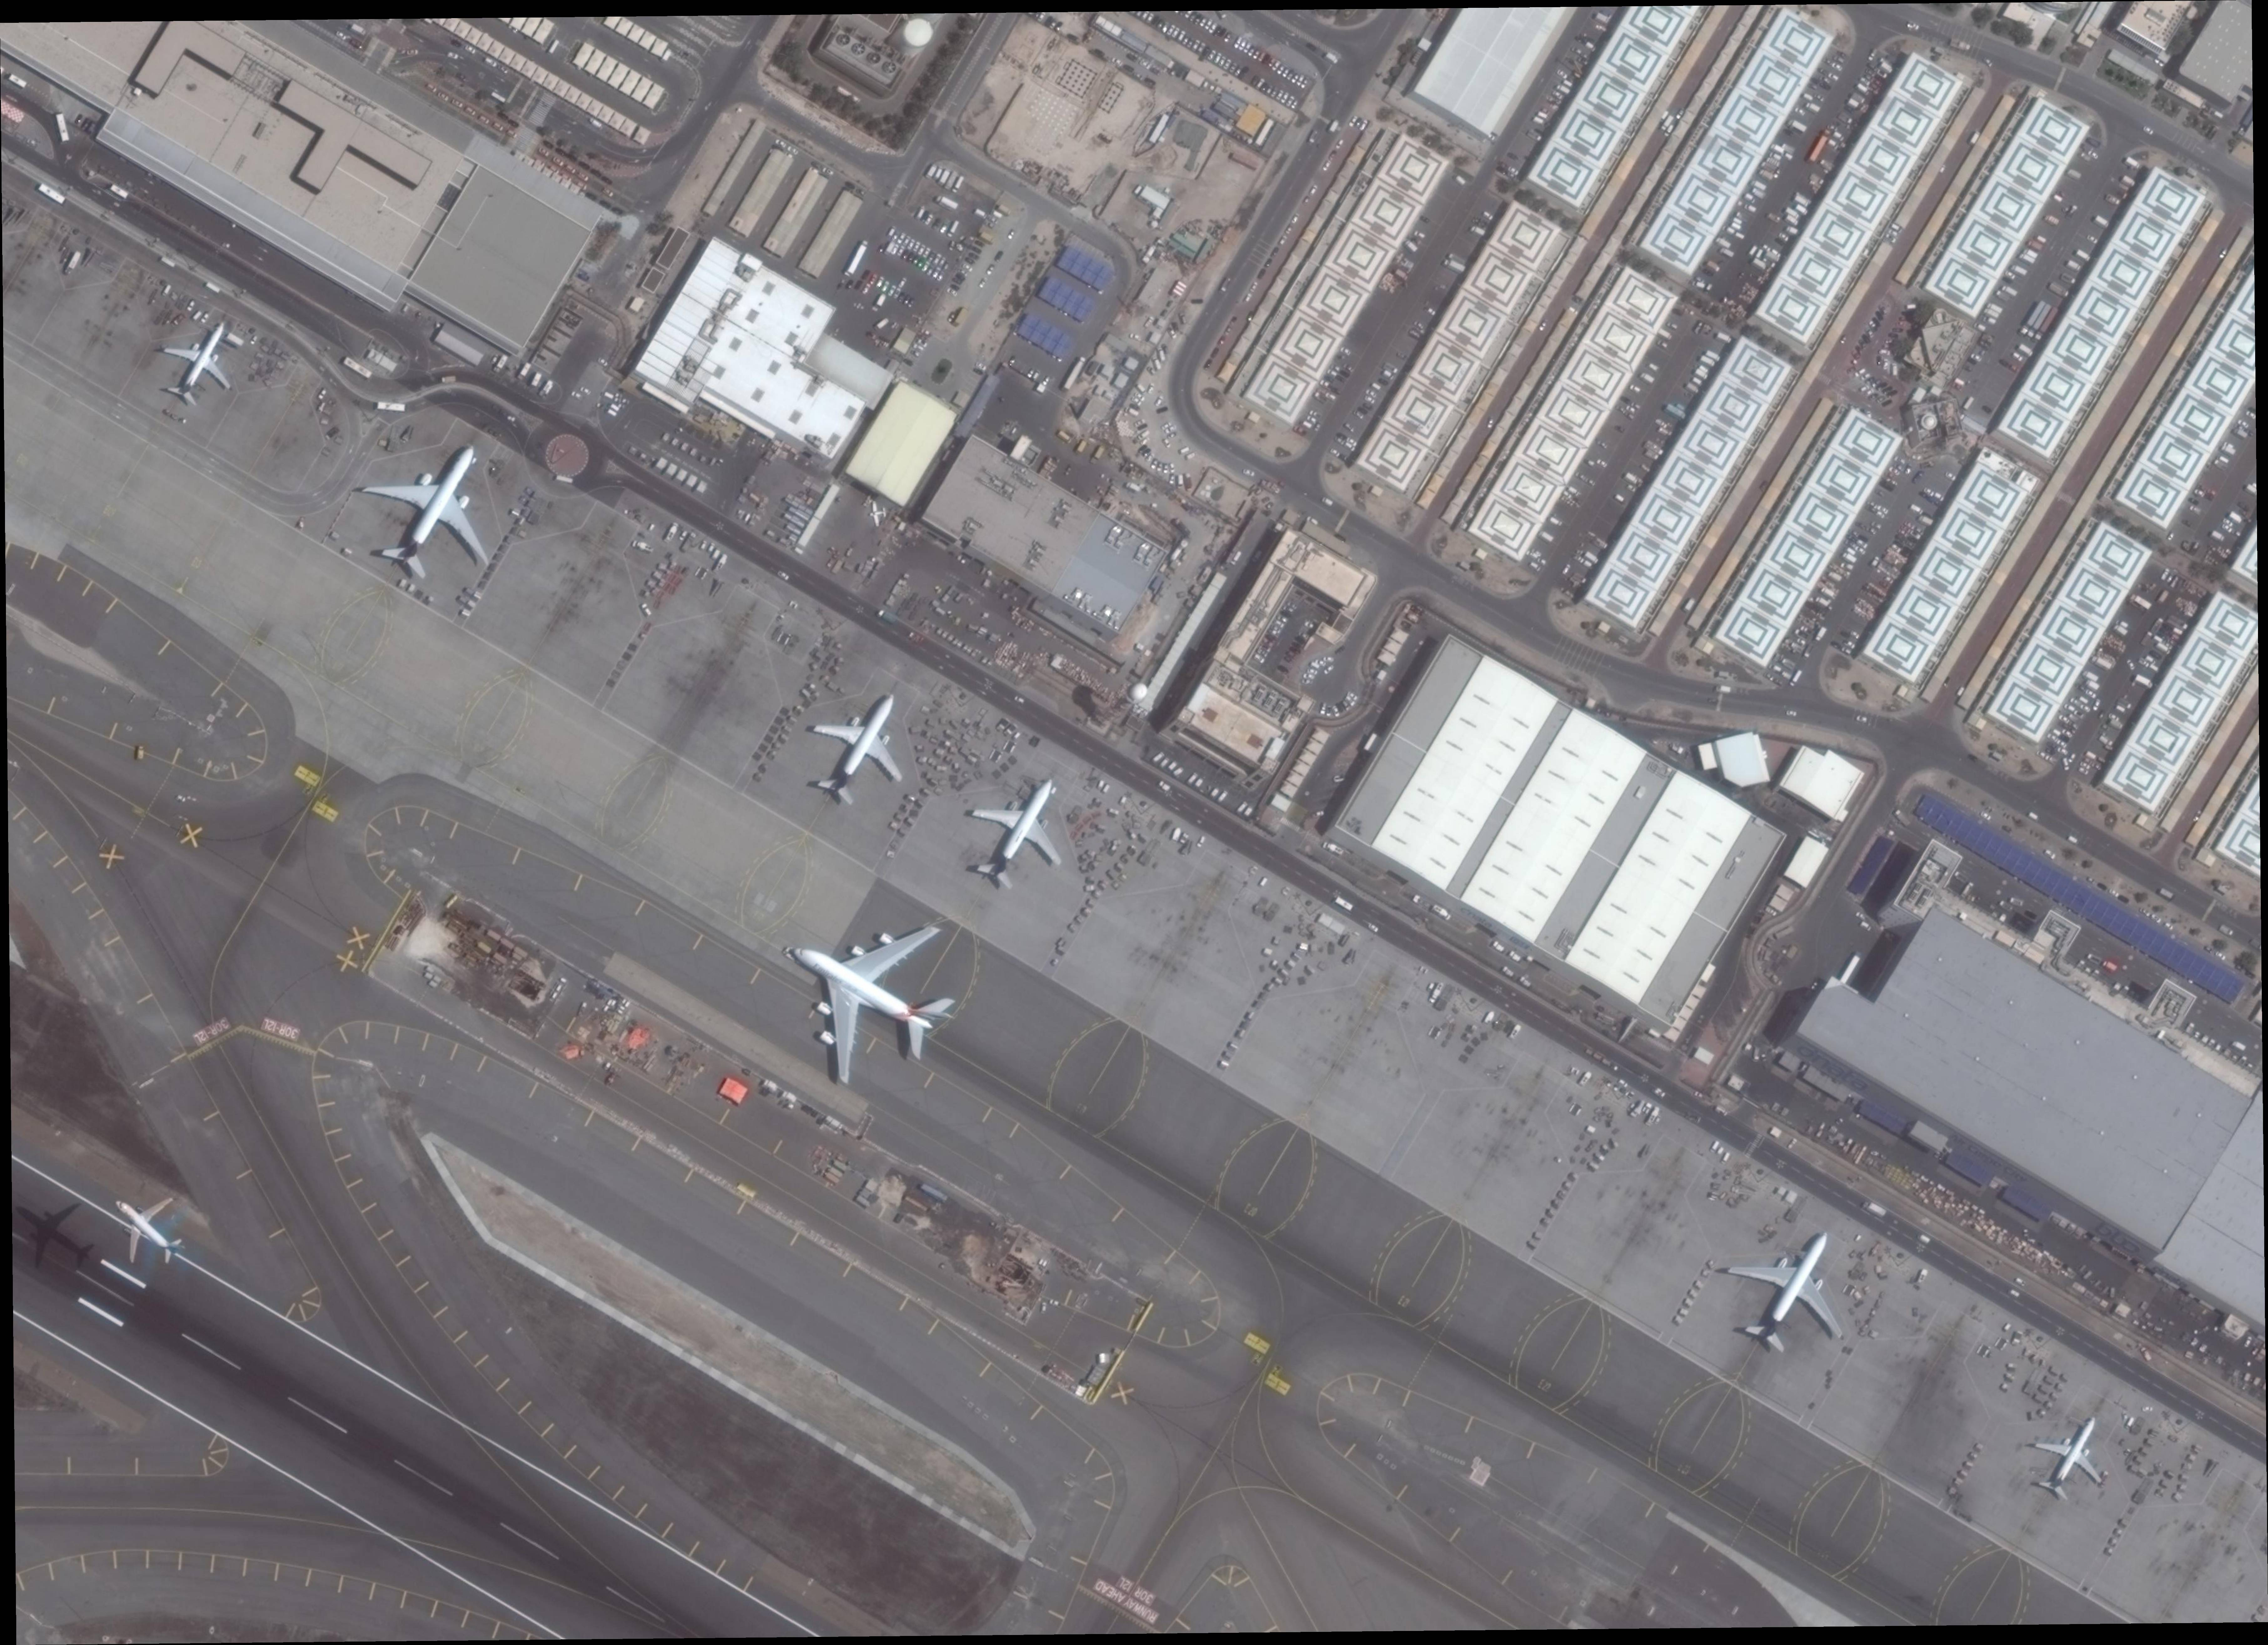large vehicle: (2017, 298, 2048, 339), (842, 237, 871, 280), (2032, 304, 2062, 345), (2024, 301, 2054, 341), (1059, 355, 1088, 395), (1806, 127, 1834, 167)
plane: (740, 863, 992, 1115), (328, 407, 544, 609), (1697, 1192, 1890, 1379), (781, 669, 942, 825), (941, 751, 1100, 907), (141, 301, 260, 417), (89, 1168, 207, 1286), (2017, 1397, 2130, 1511), (865, 498, 889, 529)
roundabout: (544, 433, 590, 478)
